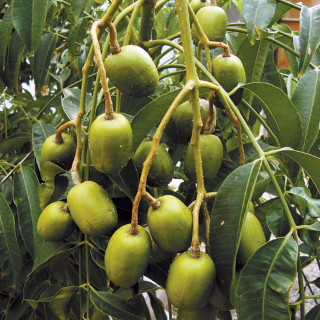coc: (103, 221, 152, 285), (166, 251, 216, 311), (104, 45, 158, 100), (66, 179, 117, 235), (88, 113, 133, 173)
